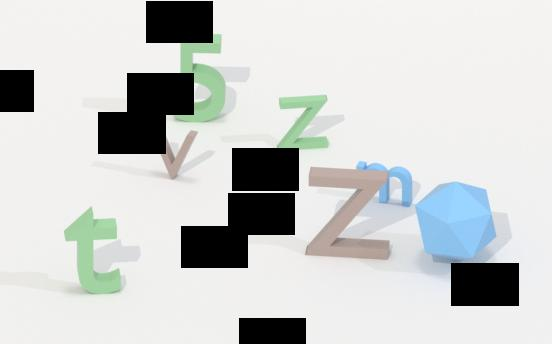5: (172, 30, 226, 126)
dagiac: (414, 180, 498, 261)
m: (354, 159, 415, 210)
t: (63, 205, 123, 299)
v: (148, 119, 199, 183)
z: (302, 163, 392, 262), (276, 91, 330, 153)
